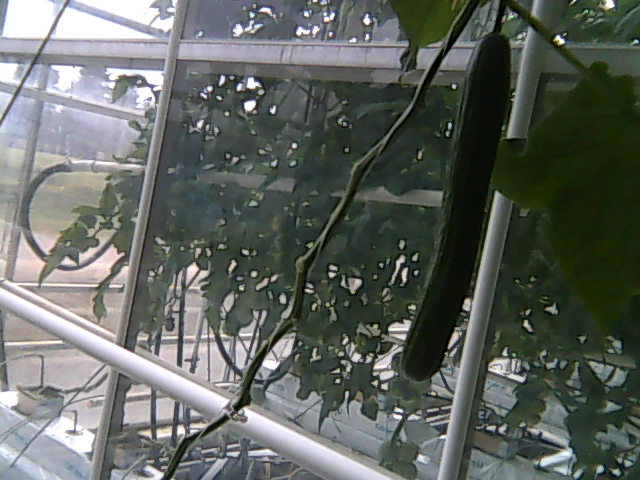concombre: (398, 26, 517, 382)
